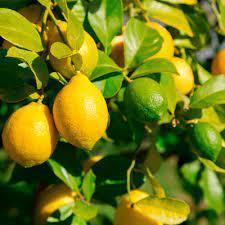lemon: (53, 72, 108, 150), (2, 102, 58, 168), (48, 19, 98, 78), (2, 3, 50, 55), (34, 181, 90, 225), (114, 189, 163, 225), (142, 21, 174, 61), (170, 56, 194, 94)
